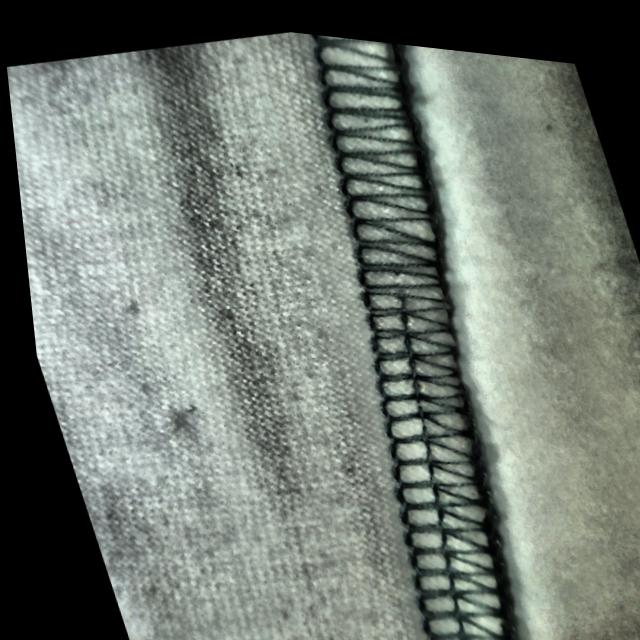Stitch: (262, 73, 538, 533)
